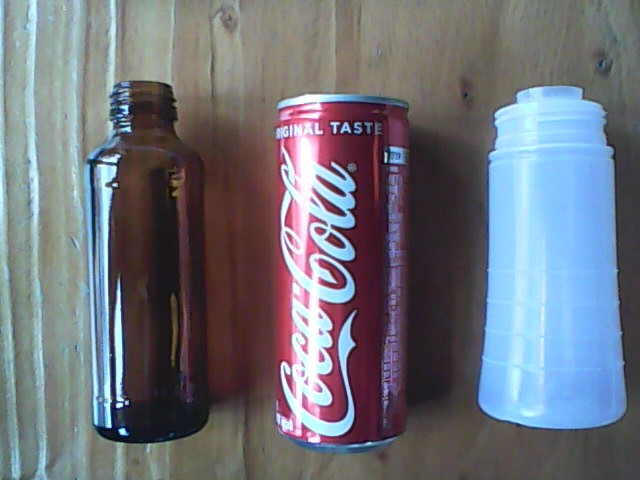Can: (266, 90, 417, 458)
Glass: (79, 73, 215, 447)
Plastic: (469, 80, 634, 433)
